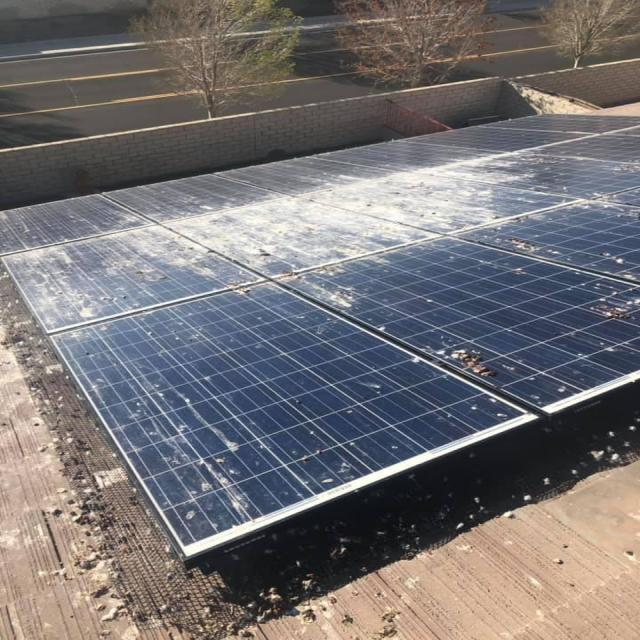soiled: (4, 125, 638, 564)
